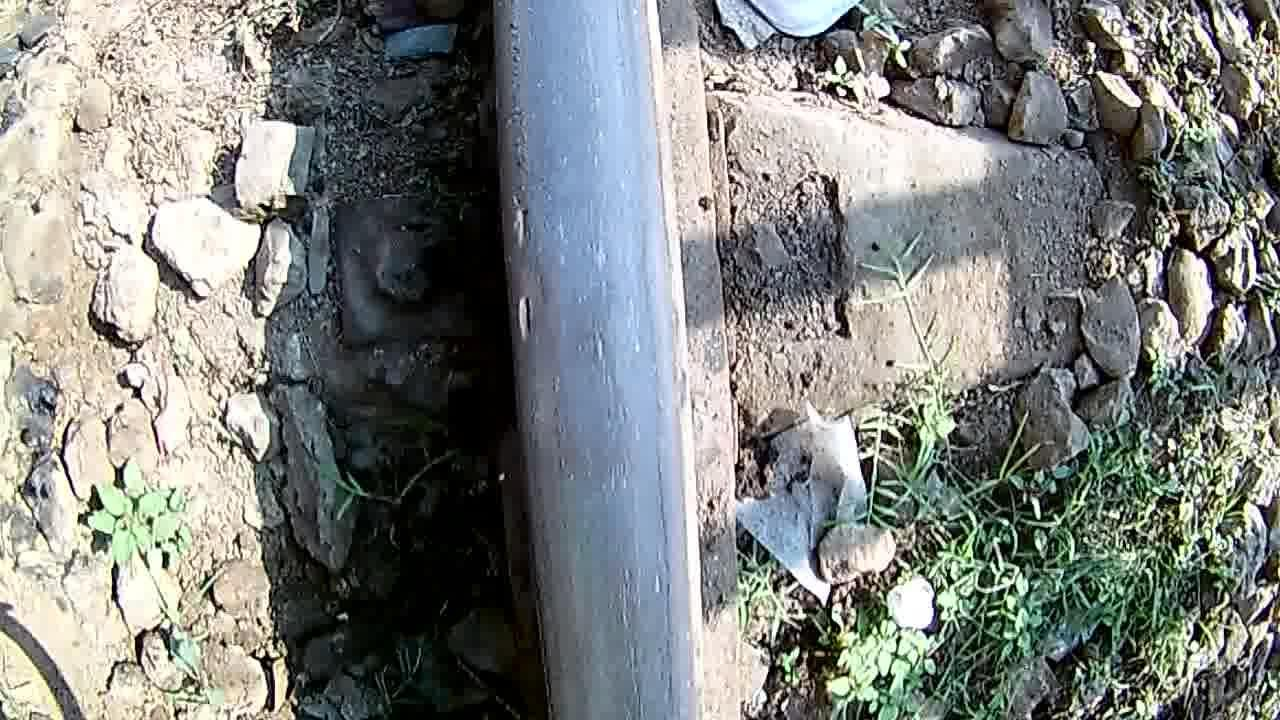crack: (492, 0, 698, 720)
